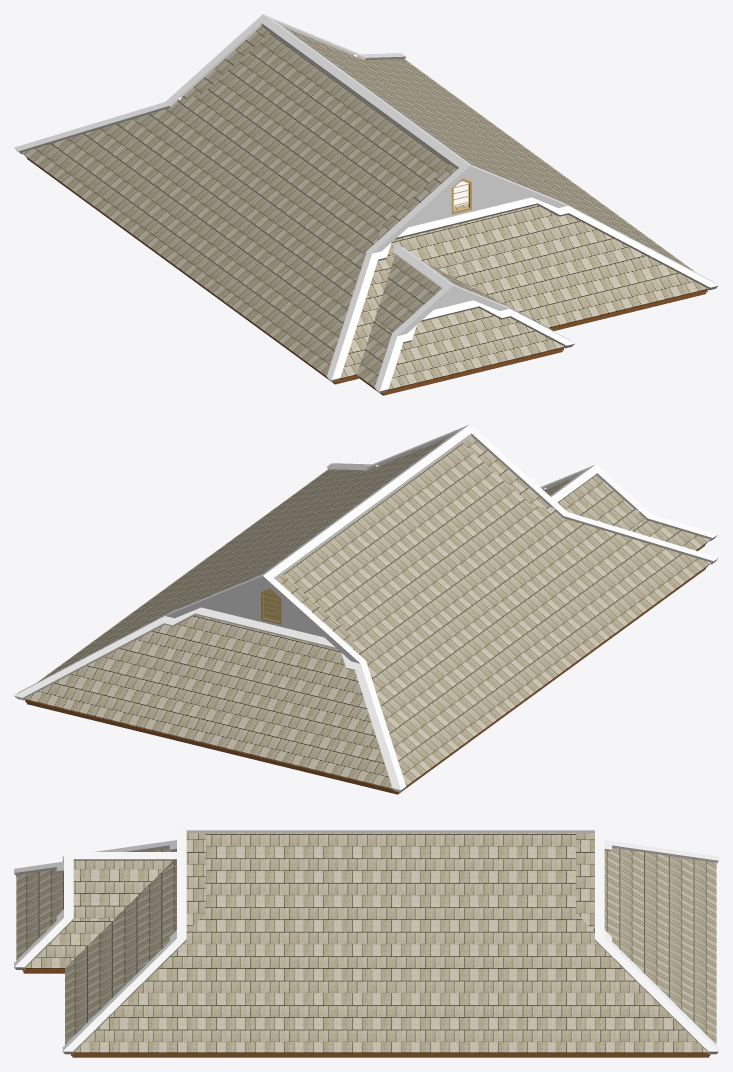
Rendered from uploads_files_2415410_Roof-01.fbx.
The picture shows the model from 3 angles, top to bottom: view 1: azimuth 30°, elevation 25°; view 2: azimuth 150°, elevation 25°; view 3: azimuth 270°, elevation 25°; orthographic projection. The views are drawn at different scales.
Parts seen in each view (by area): view 1: Roof-Cedar Shingle, Paint-01, Wd-Mahogany Horizontal; view 2: Roof-Cedar Shingle, Paint-01, Wd-Mahogany Horizontal; view 3: Roof-Cedar Shingle, Paint-01, Wd-Mahogany Horizontal.
Part boxes in pixels (<box>): Roof-Cedar Shingle: <box>22,26,707,390</box>; Paint-01: <box>14,14,718,393</box>; Wd-Mahogany Horizontal: <box>25,156,707,395</box>; Roof-Cedar Shingle: <box>25,436,710,789</box>; Paint-01: <box>14,424,718,792</box>; Wd-Mahogany Horizontal: <box>25,543,707,794</box>; Roof-Cedar Shingle: <box>16,833,716,1053</box>; Paint-01: <box>14,823,718,1054</box>; Wd-Mahogany Horizontal: <box>22,969,710,1057</box>.
Size of the model in its own units: 950 by 1450 by 320.
Materials: 7 (5 with a texture image).
